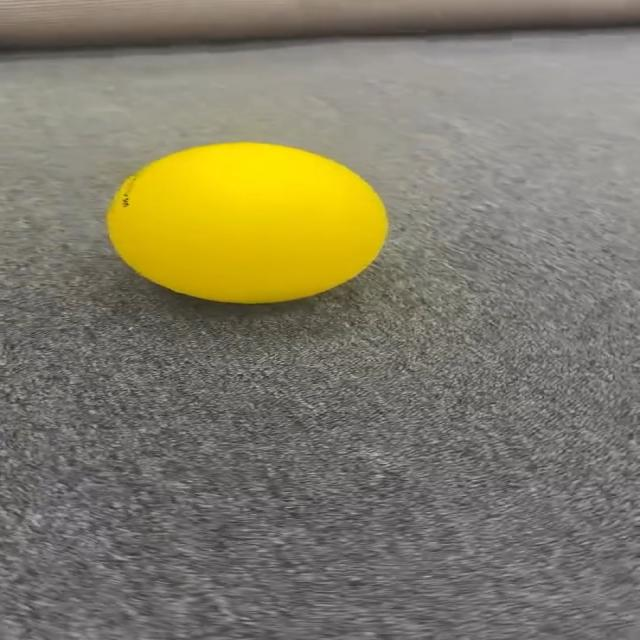Fuels: (109, 144, 385, 302)
